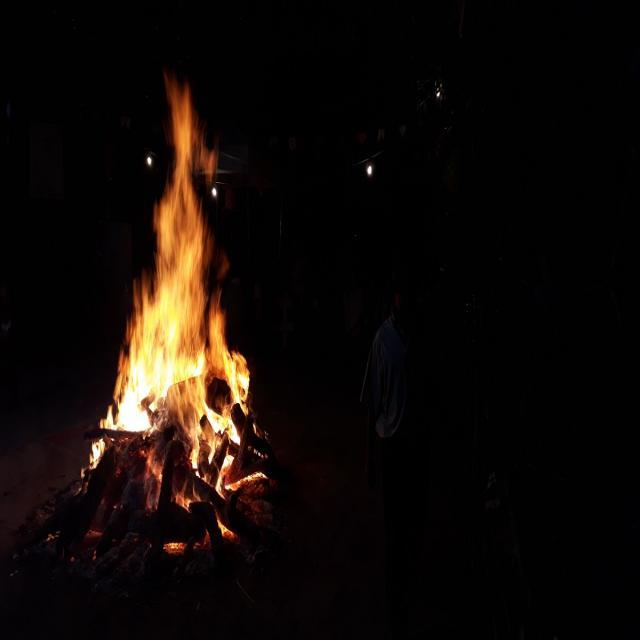Fire: (90, 71, 276, 578)
